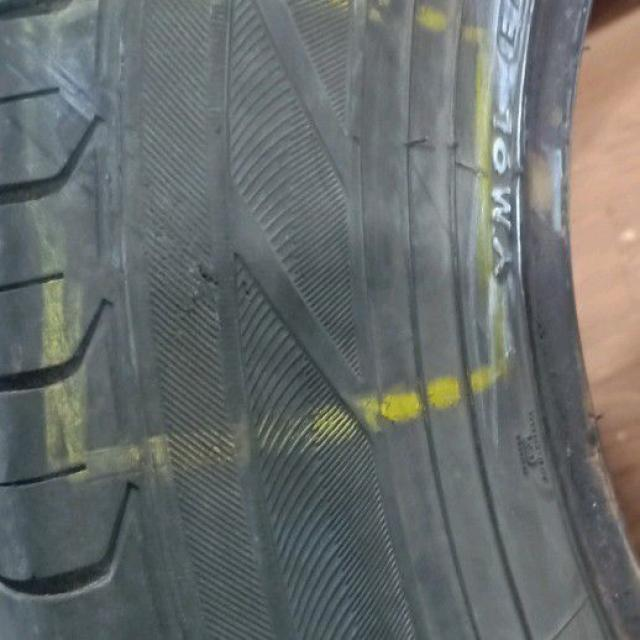Bulge: (200, 168, 470, 318)
